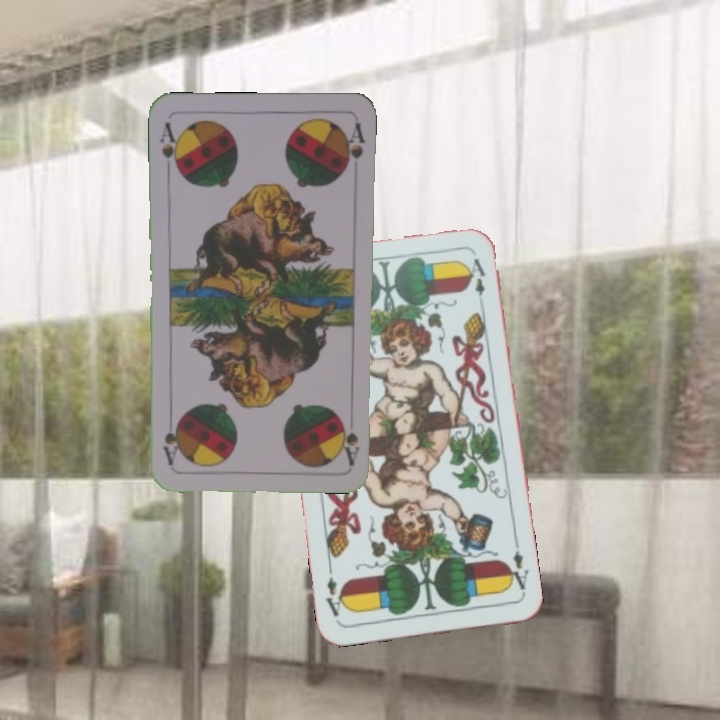EA: (503, 539, 531, 598)
SA: (156, 118, 182, 176), (340, 420, 362, 467)
